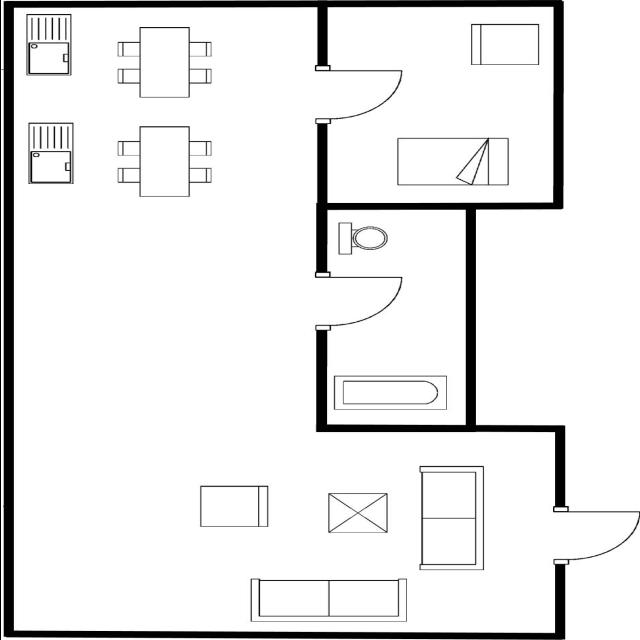bed: (392, 136, 512, 188)
coffee_table: (322, 490, 392, 536)
dining_table: (113, 24, 215, 102), (114, 122, 215, 200)
large_sink: (333, 220, 392, 258)
large_sofa: (247, 574, 410, 624), (414, 463, 488, 572), (195, 482, 272, 532)
sink: (20, 11, 76, 79), (23, 120, 78, 187)
small_sofa: (468, 21, 544, 68)
tub: (331, 371, 451, 413)
